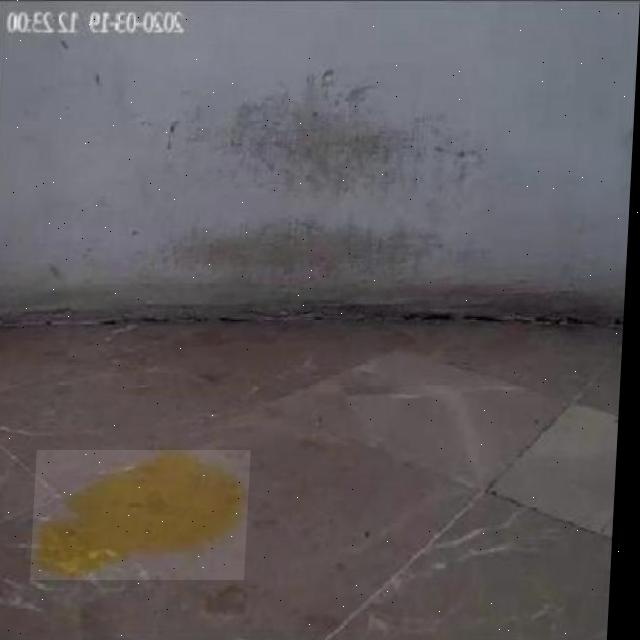spillage: (38, 450, 253, 580)
